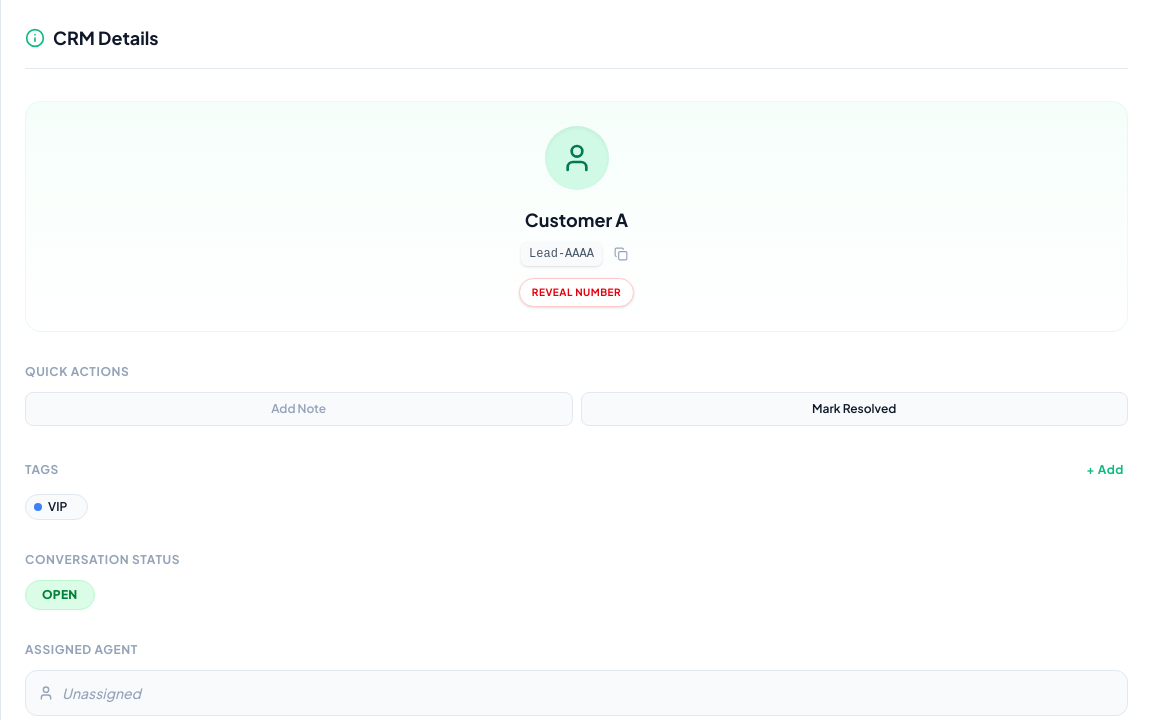
Test: CrmSidebar Component - Tags › does not offer an already-applied tag as a pickable option
The image size is (1152, 720).
Click the button "+ Add": (1105,470) left=1082, top=458, right=1128, bottom=482
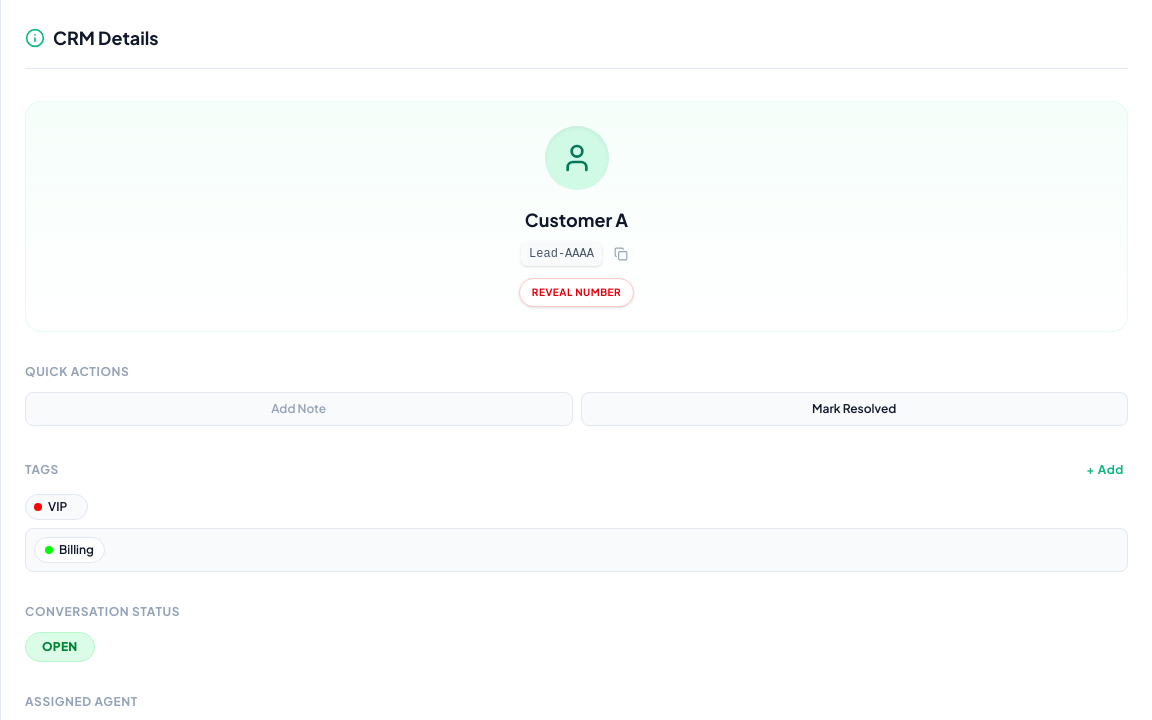
Expected: the button "Billing" is shown, left=34, top=537, right=105, bottom=563
